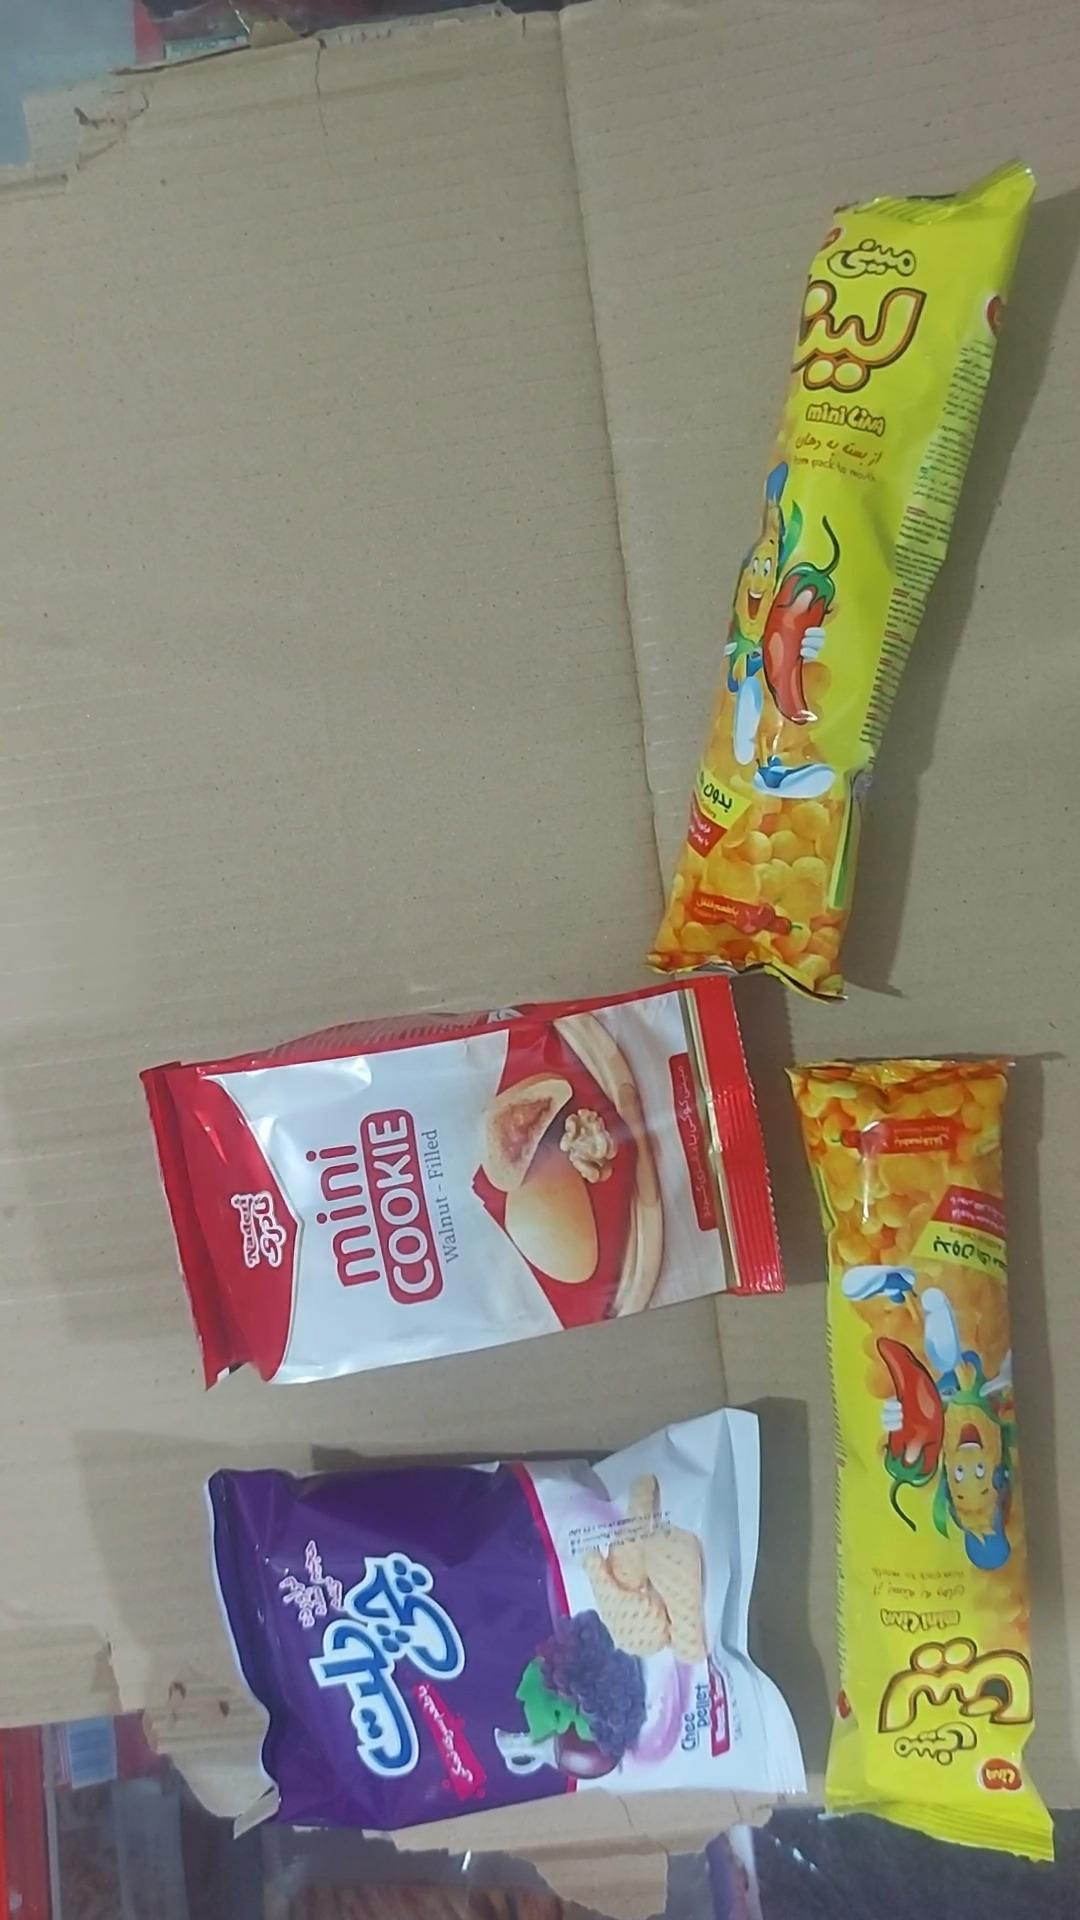Chee pellet vinegar: (204, 1408, 808, 1834)
Mini Lina: (649, 161, 1036, 1004), (786, 1059, 1056, 1866)
Naderi mini cookie: (138, 976, 786, 1393)
